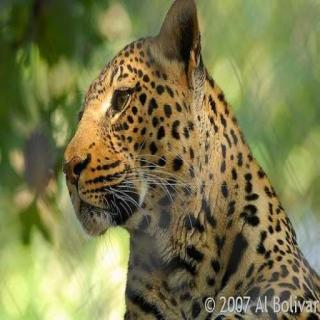Leopard: (48, 19, 320, 319)
